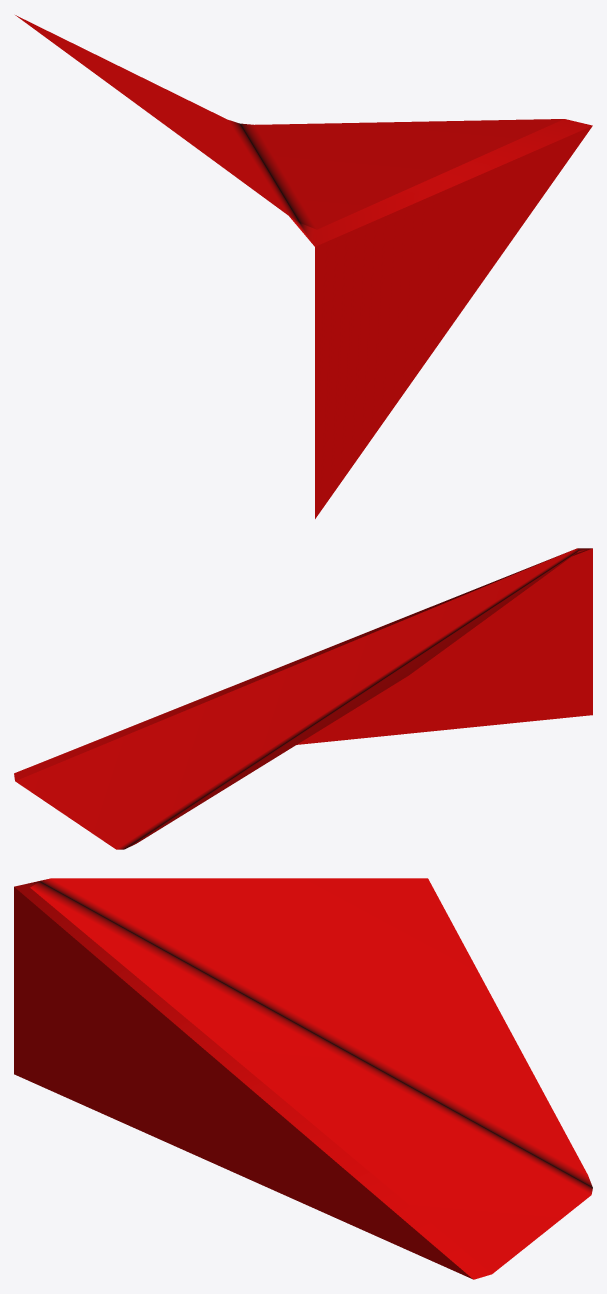
The model's file is Mainbuildingslope.fbx.
3 views of the same model, one above another, from view 1: azimuth 30°, elevation 25°; view 2: azimuth 150°, elevation 25°; view 3: azimuth 270°, elevation 25° (orthographic). The views are drawn at different scales.
Visible parts, largest first — view 1: BaseBuilding; view 2: BaseBuilding; view 3: BaseBuilding.
Boxes of the visible parts, left/top/right/bottom form: BaseBuilding: left=15, top=15, right=592, bottom=518; BaseBuilding: left=14, top=548, right=592, bottom=849; BaseBuilding: left=14, top=878, right=592, bottom=1279.
Size of the model in its own units: 940 by 418 by 1119.
